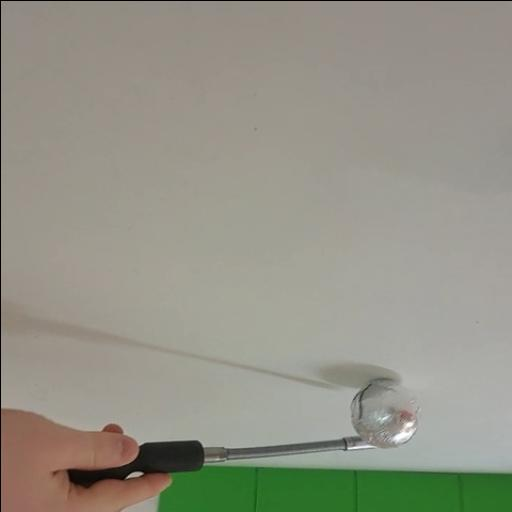alive: (349, 377, 421, 447)
